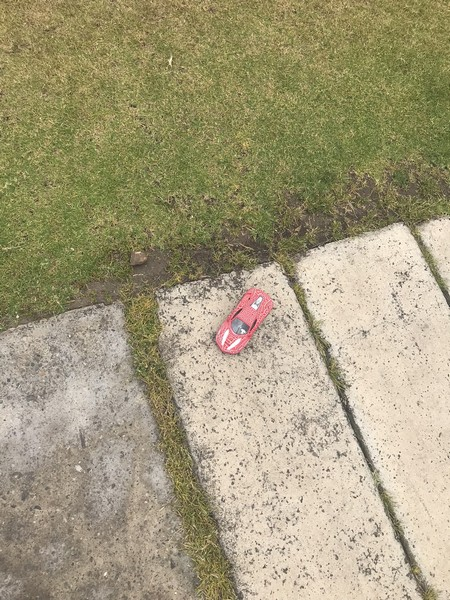RC: (213, 285, 276, 358)
